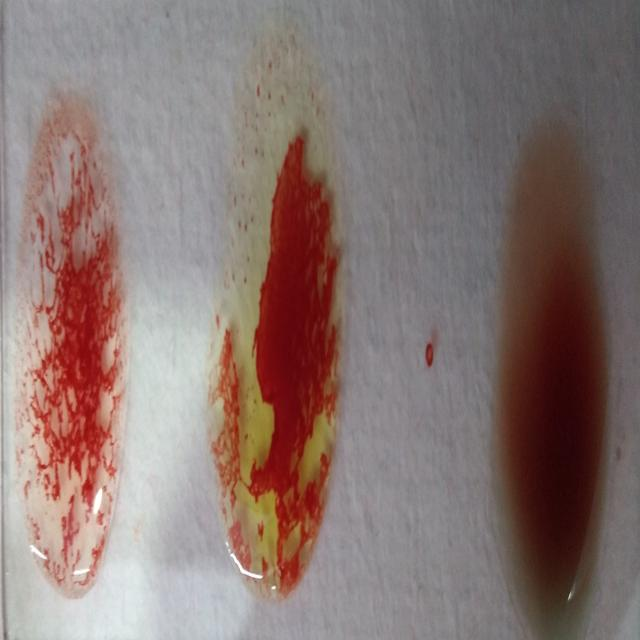B: (215, 4, 337, 607)
D: (7, 79, 128, 599)
